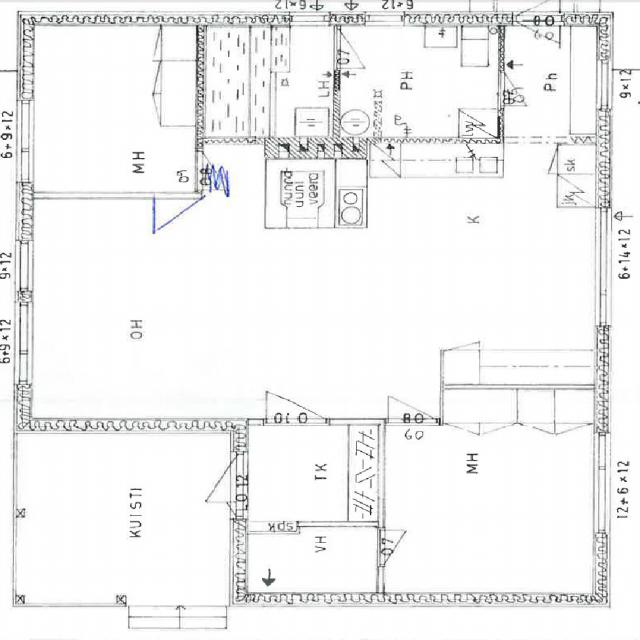door: (266, 366, 326, 425), (175, 454, 247, 501), (388, 376, 437, 425), (516, 12, 560, 63), (334, 29, 386, 68), (154, 192, 196, 234), (377, 530, 425, 564), (497, 72, 543, 106), (516, 0, 560, 26), (213, 500, 247, 516)
